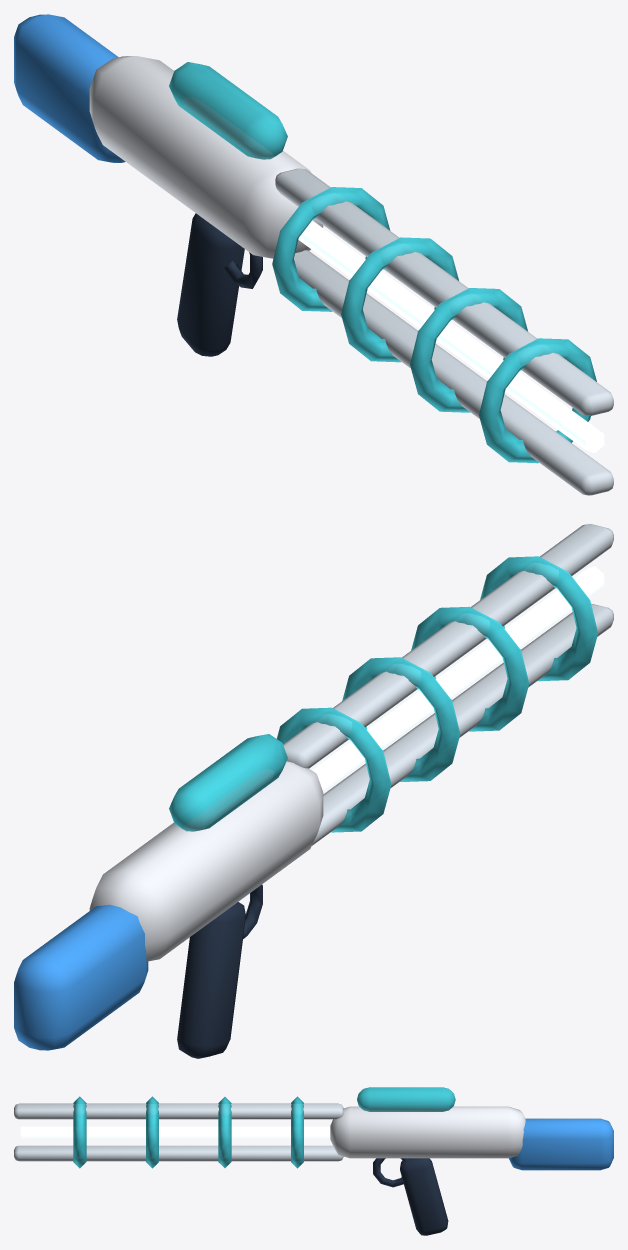
Rendered from RailGun.fbx.
The picture shows the model from 3 angles, top to bottom: view 1: azimuth 30°, elevation 25°; view 2: azimuth 150°, elevation 25°; view 3: azimuth 270°, elevation 25°; orthographic projection. The views are drawn at different scales.
Parts seen in each view (by area): view 1: RailGun; view 2: RailGun; view 3: RailGun.
Boxes of the visible parts, x1,y1,x2,y2 form: RailGun: [14, 14, 613, 495]; RailGun: [14, 524, 613, 1058]; RailGun: [14, 1087, 613, 1235].
Bounding box in the file's own units: 0.11 × 0.2457 × 0.91.
